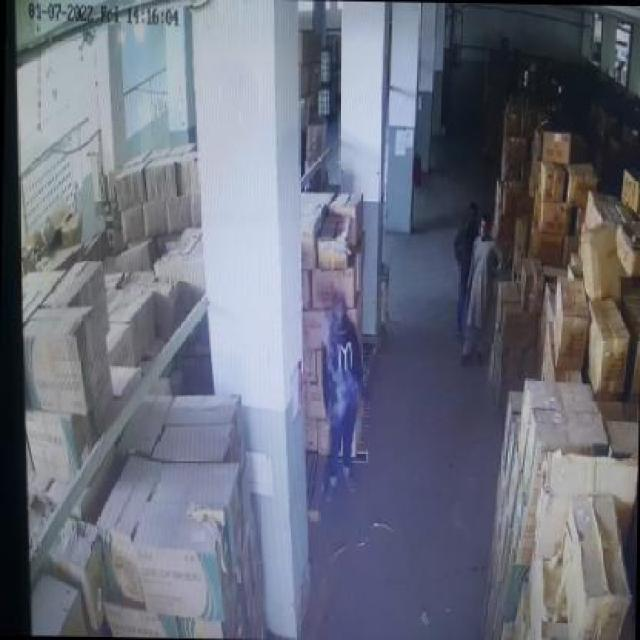fire: (308, 287, 359, 424)
